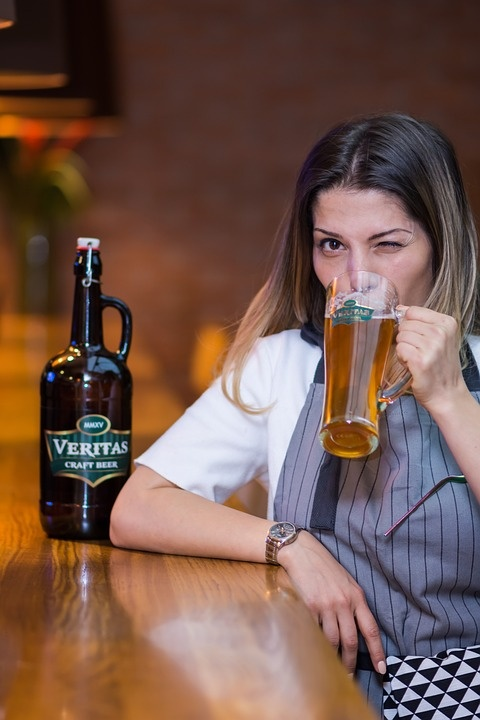glassBeer: (318, 273, 399, 458)
